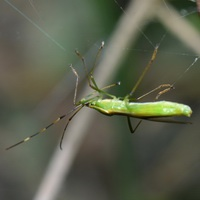insect: (5, 43, 197, 149)
